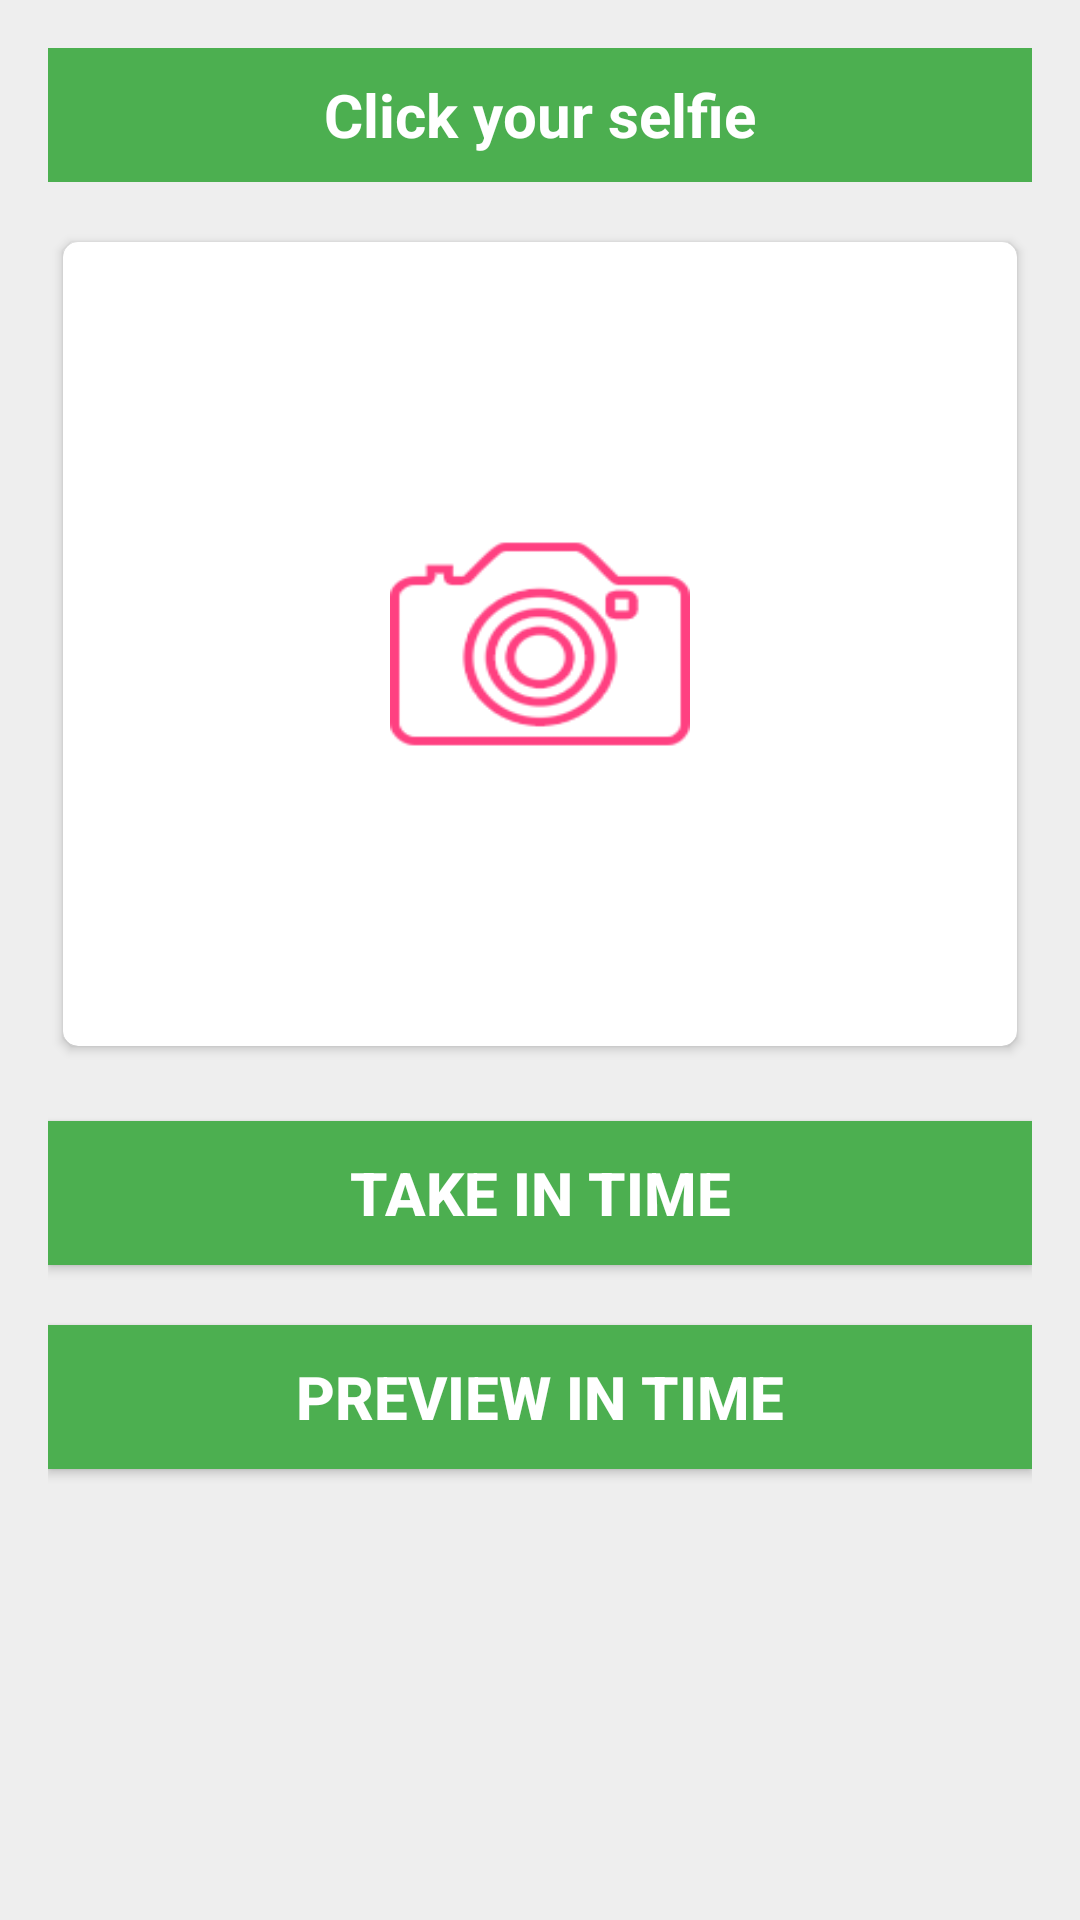

Icon click points for this 1080px×1920px phone screenshot, format point (x, y):
camera: point (540, 644)
